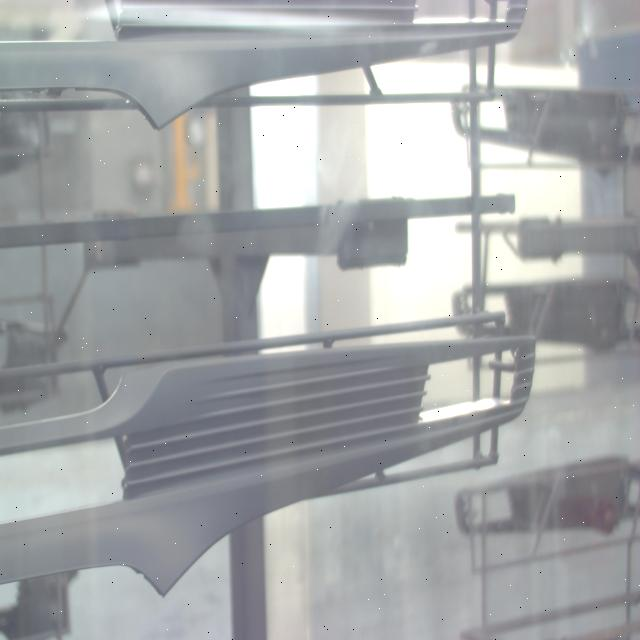Primered: (0, 304, 550, 602), (0, 1, 535, 163)
